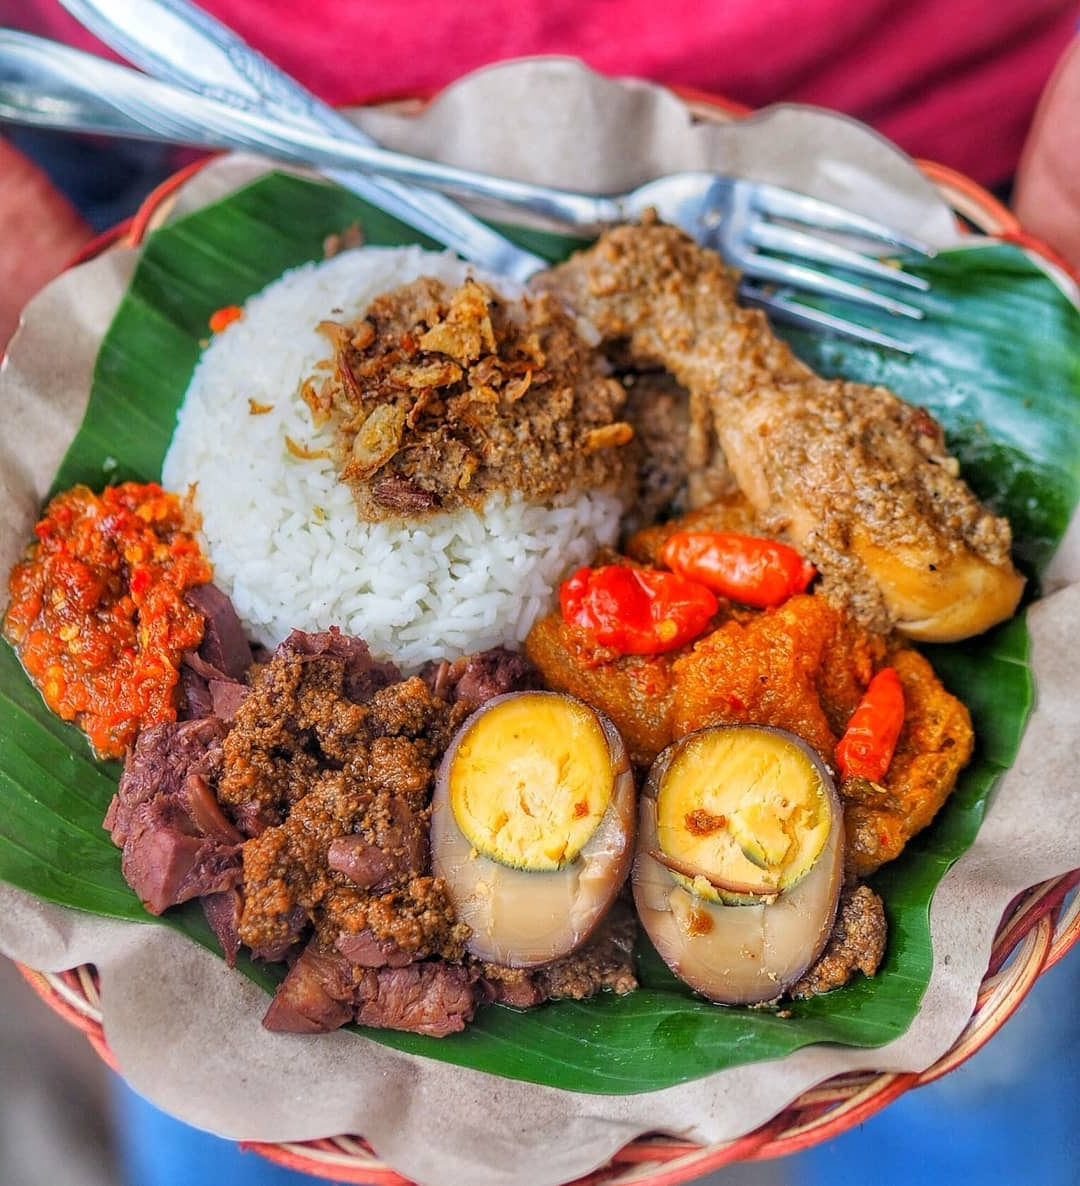gudeg: (16, 230, 1028, 1039)
